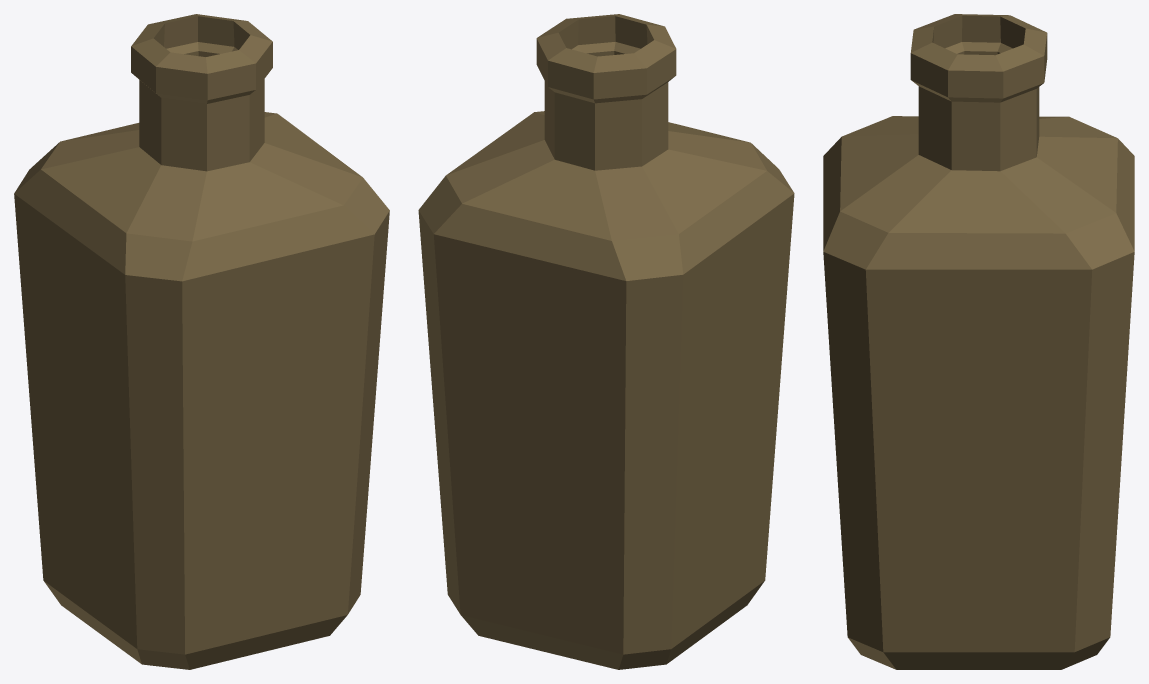
The model's file is Bottle_7.fbx.
3 renders of one model, left to right at view 1: azimuth 30°, elevation 25°; view 2: azimuth 150°, elevation 25°; view 3: azimuth 270°, elevation 25°, orthographic.
Visible parts, largest first — view 1: Bottle_7; view 2: Bottle_7; view 3: Bottle_7.
Part boxes in pixels (x1,y1,x2,y2): Bottle_7: (14,14,389,669); Bottle_7: (418,14,794,669); Bottle_7: (823,14,1134,669).
Size of the model in its own units: 12.44 by 25.77 by 12.44.
